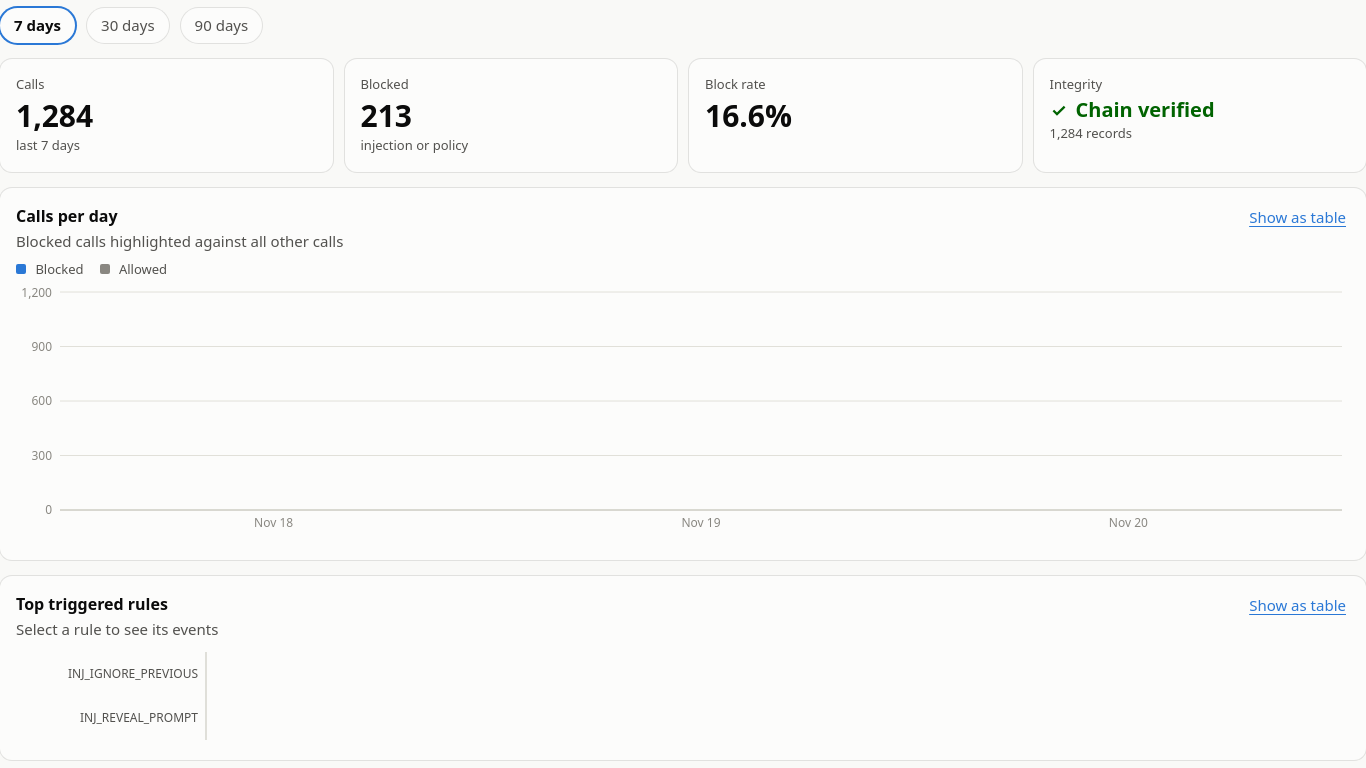
it: Overview › keeps the previous data on screen, dimmed, while refetching
Later steps or results of the test are not shown.
Expected: the text "1,284" is shown, [16,98,93,134]
Click the radio button labelled "30 days". click: (128, 25)
box: [87,8,169,42]
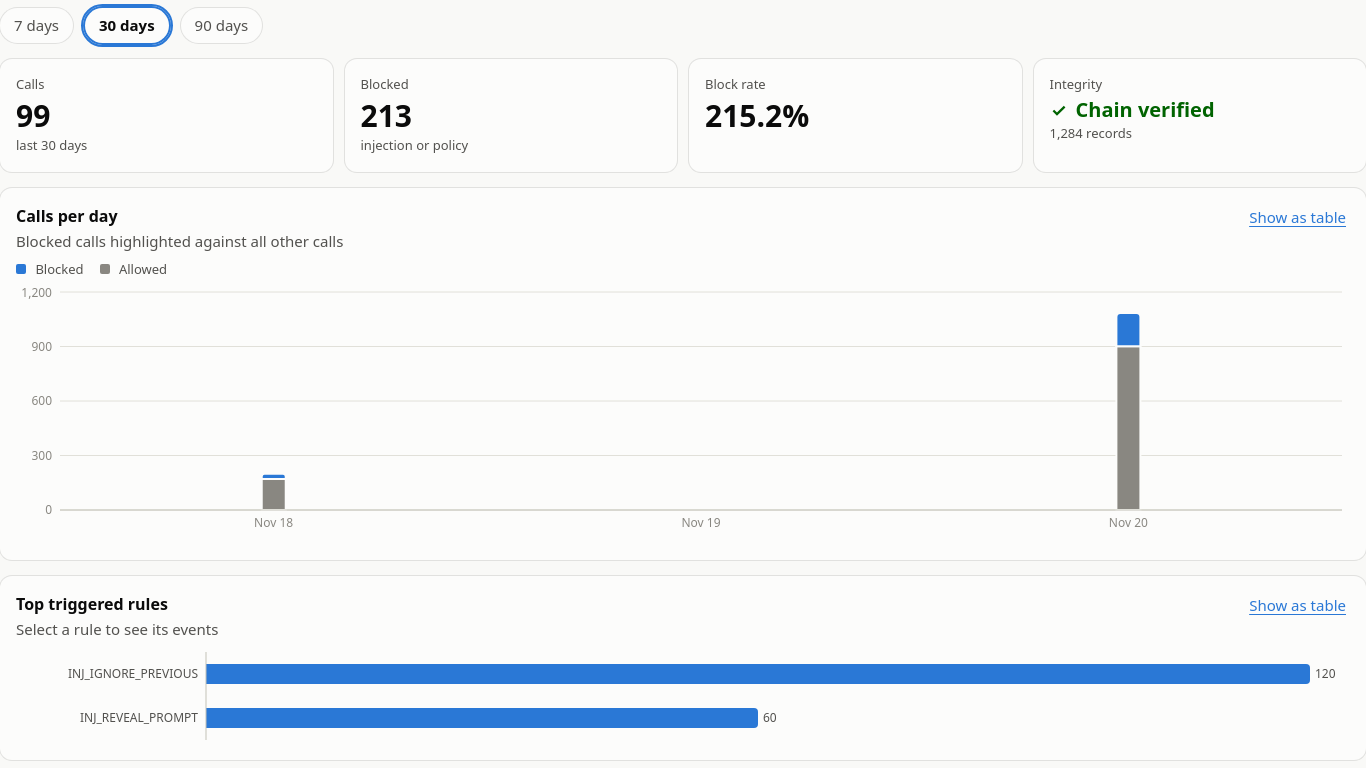
Now the text "99" is shown, box [16,98,50,134]
